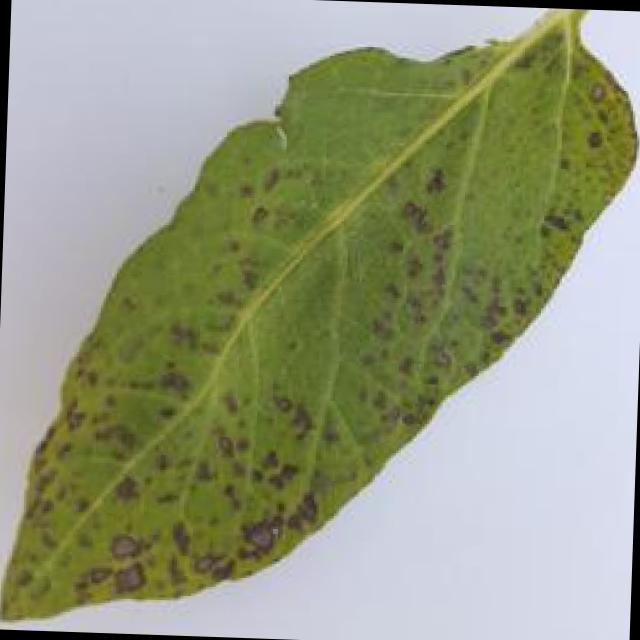Potato_Early_Blight: (5, 14, 640, 640)
